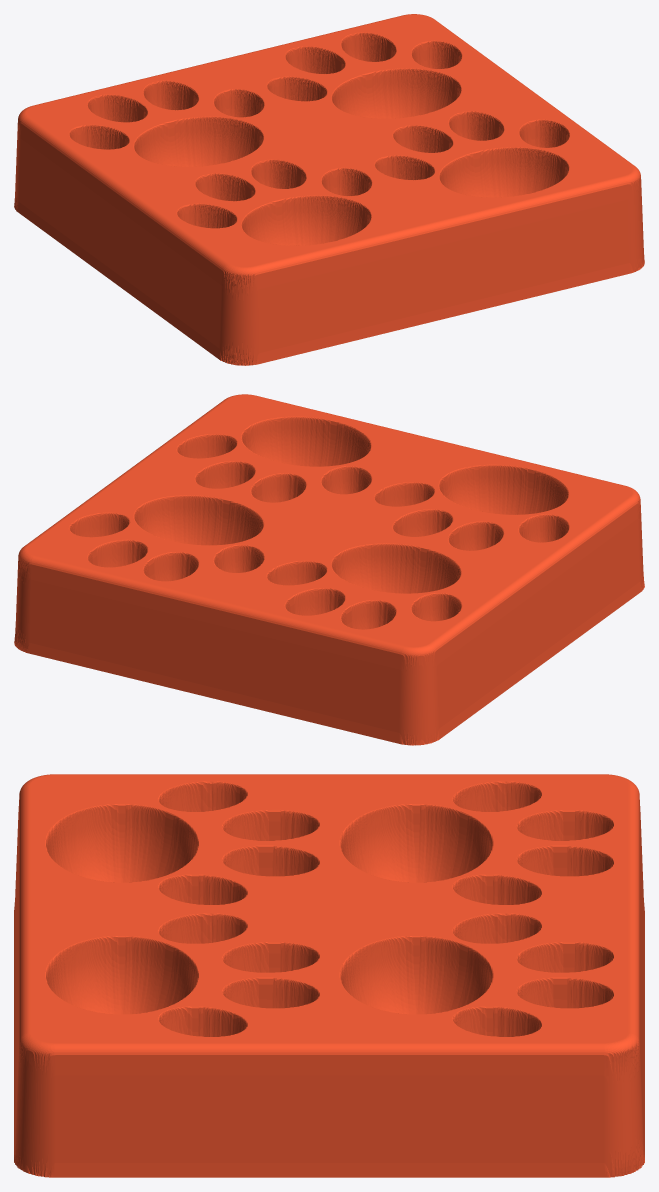
The model's file is mold.glb.
3 renders of one model, top to bottom at view 1: azimuth 30°, elevation 25°; view 2: azimuth 150°, elevation 25°; view 3: azimuth 270°, elevation 25°, orthographic. The views are drawn at different scales.
Parts seen in each view (by area): view 1: geometry_0; view 2: geometry_0; view 3: geometry_0.
Boxes of the visible parts, x1=… form: geometry_0: x1=14, y1=14, x2=644, y2=365; geometry_0: x1=14, y1=394, x2=644, y2=745; geometry_0: x1=14, y1=774, x2=644, y2=1177.
Bounding box in the file's own units: 0.1466 × 0.031 × 0.1388.
